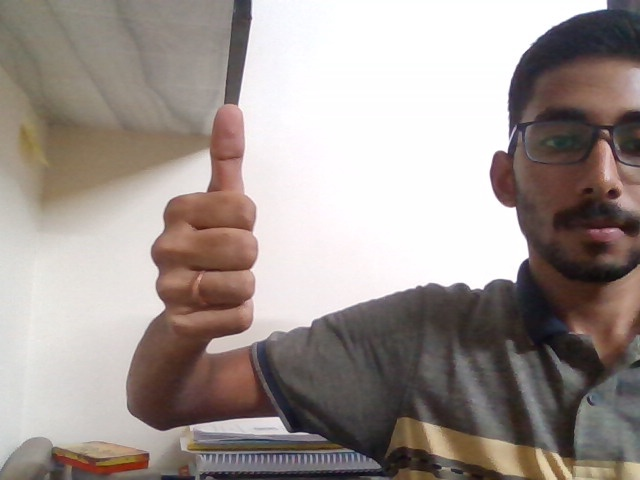Yes: (129, 82, 285, 379)
